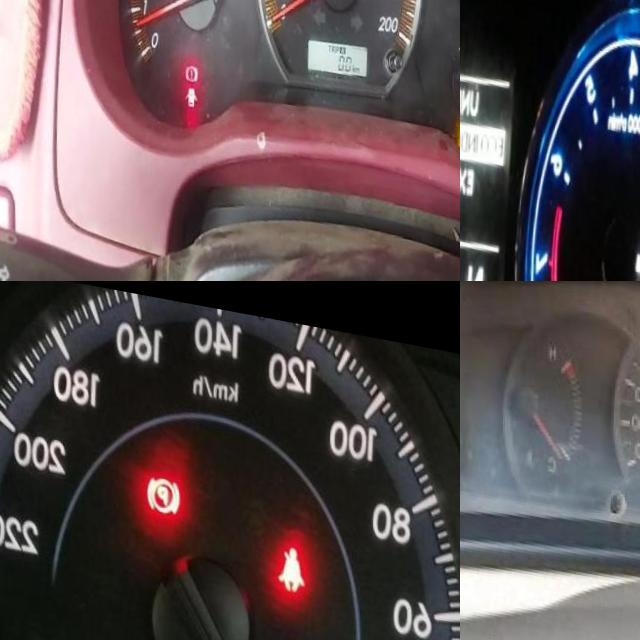Seat Belt: (282, 530, 311, 581)
